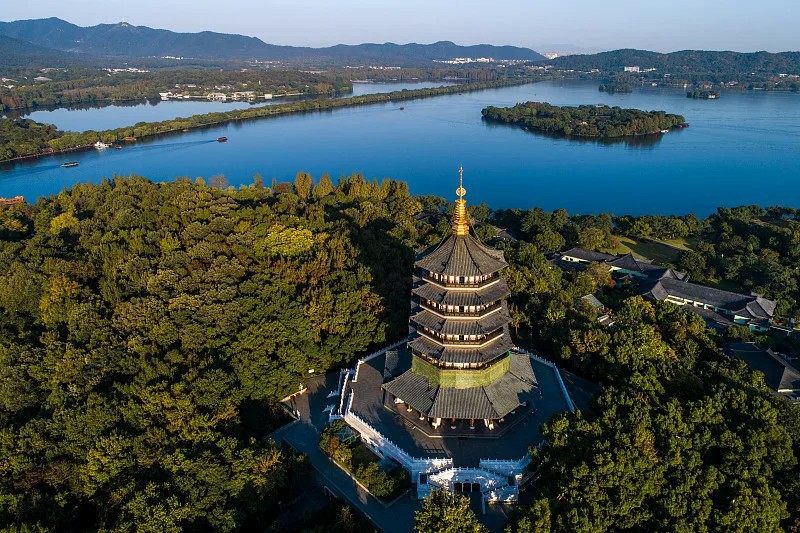Leifeng: (378, 163, 541, 440)
